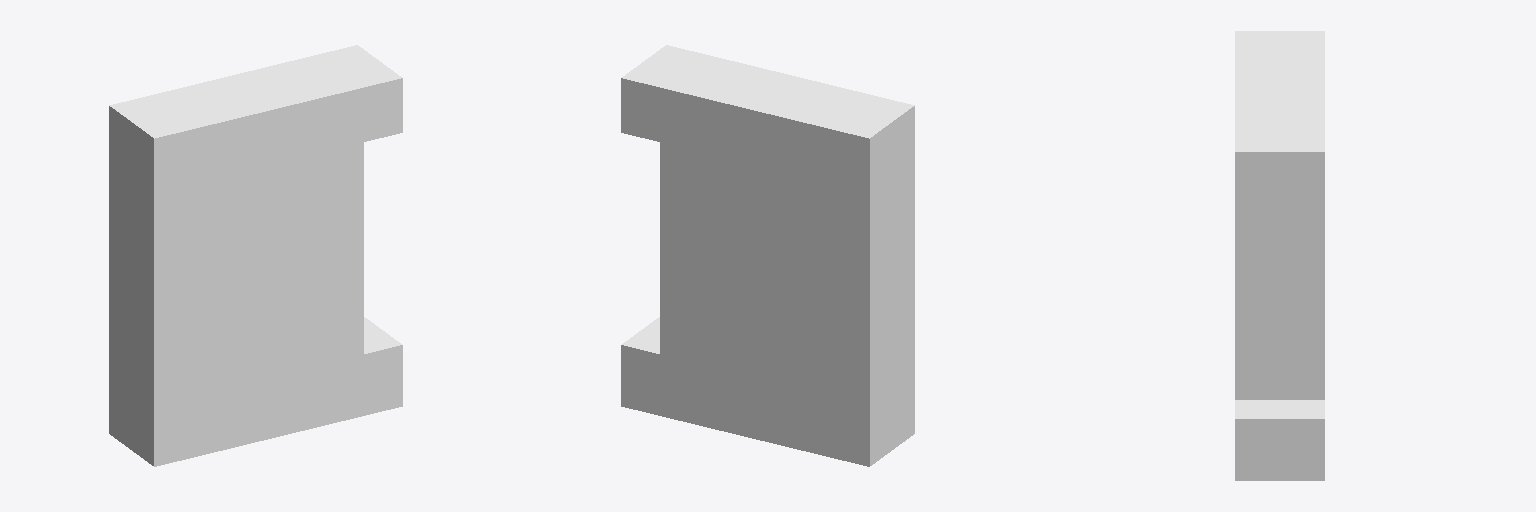
File: gym-68.obj
The picture shows the model from 3 angles: view 1: azimuth 30°, elevation 25°; view 2: azimuth 150°, elevation 25°; view 3: azimuth 270°, elevation 25°; orthographic projection.
Parts seen in each view (by area): view 1: object 1; view 2: object 1; view 3: object 1.
Boxes of the visible parts, <box> form: object 1: <box>109,45,402,466</box>; object 1: <box>621,45,914,466</box>; object 1: <box>1235,31,1324,480</box>.
Bounding box in the file's own units: 3.8 × 4.8 × 1.2.